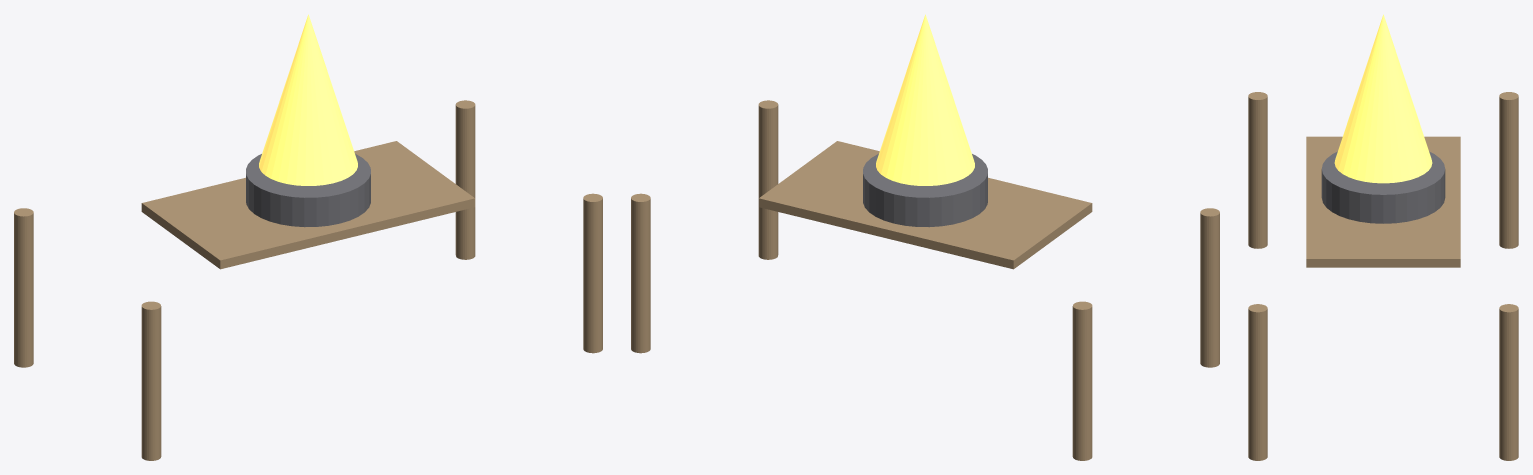
The model's file is hearth_flame.glb.
3 renders of one model, left to right at view 1: azimuth 30°, elevation 25°; view 2: azimuth 150°, elevation 25°; view 3: azimuth 270°, elevation 25°, orthographic.
Visible parts, largest first — view 1: bench_top, hearth_flame, brazier-bowl, bench_leg_-1.3_-0.65, bench_leg_-1.3_0.65, bench_leg_1.3_-0.65, bench_leg_1.3_0.65; view 2: bench_top, hearth_flame, brazier-bowl, bench_leg_-1.3_0.65, bench_leg_-1.3_-0.65, bench_leg_1.3_0.65, bench_leg_1.3_-0.65; view 3: bench_top, hearth_flame, brazier-bowl, bench_leg_1.3_0.65, bench_leg_1.3_-0.65, bench_leg_-1.3_0.65, bench_leg_-1.3_-0.65.
Part boxes in pixels (x1,y1,x2,y2): bench_top: (141,141,475,269); hearth_flame: (259,14,357,185); brazier-bowl: (246,153,370,227); bench_leg_-1.3_-0.65: (141,301,161,460); bench_leg_-1.3_0.65: (14,208,33,367); bench_leg_1.3_-0.65: (583,193,602,353); bench_leg_1.3_0.65: (455,100,475,259); bench_top: (758,141,1092,269); hearth_flame: (876,14,974,185); brazier-bowl: (863,153,987,227); bench_leg_-1.3_0.65: (1072,301,1092,460); bench_leg_-1.3_-0.65: (1200,208,1219,367); bench_leg_1.3_0.65: (631,193,650,353); bench_leg_1.3_-0.65: (758,100,778,259); bench_top: (1306,136,1460,267); hearth_flame: (1334,14,1432,183); brazier-bowl: (1321,151,1445,223); bench_leg_1.3_0.65: (1499,304,1518,460); bench_leg_1.3_-0.65: (1248,304,1267,460); bench_leg_-1.3_0.65: (1499,92,1518,248); bench_leg_-1.3_-0.65: (1248,92,1267,248).
Bounding box in the file's own units: 2.7 × 1.93 × 1.4.
